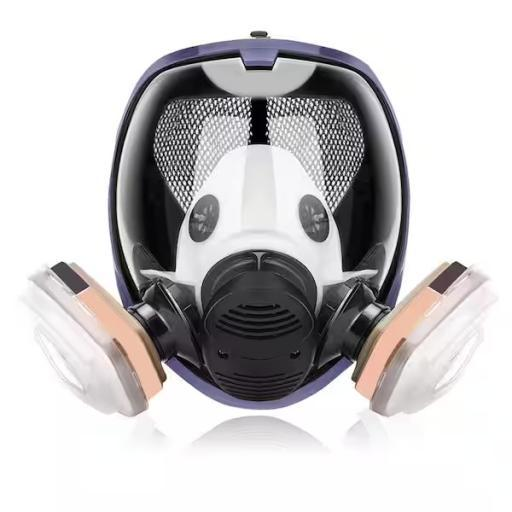mask: (24, 36, 498, 442)
